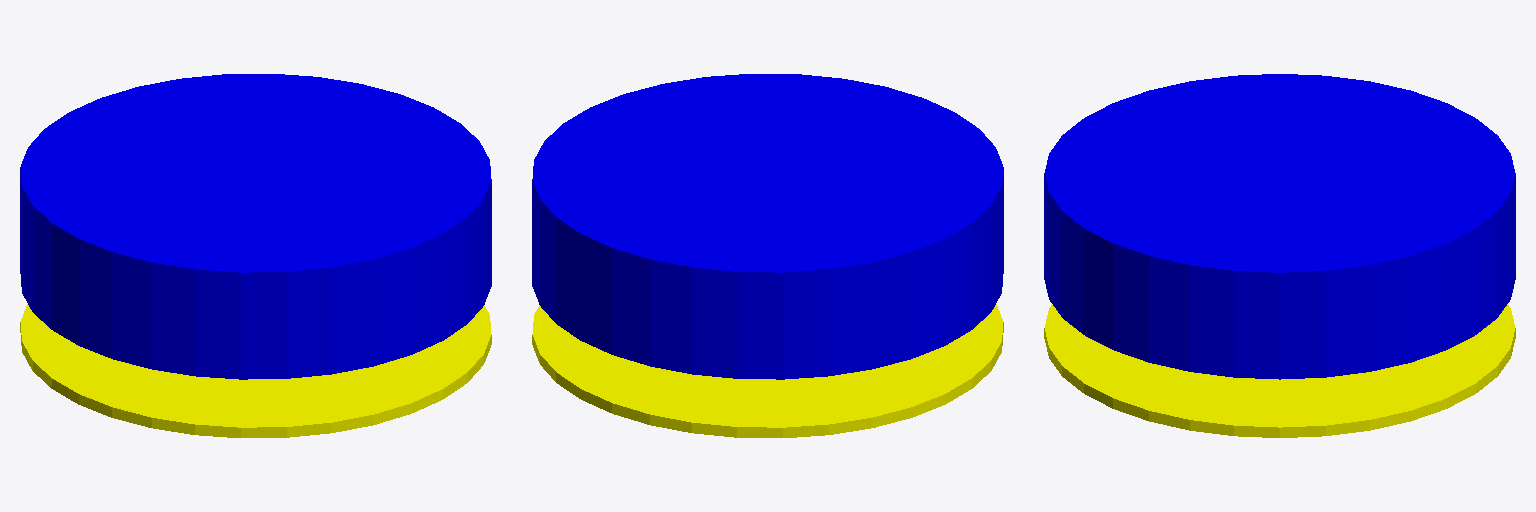
robot.urdf — ball_shooter:
<?xml version="1.0"?>

<robot name="ball_shooter">

//////////////////////////////////////////////////////////////////////////////////////////////
///////////////////////base link//////////////////////////////////////////////////////////////

<link name="base_link">

     <visual>
       <geometry>
   <cylinder length="0.01" radius="0.2"/> // TODO change heigth here
       </geometry>
       <origin rpy="0 0 0" xyz="0 0 0"/>
       <material name="yellow">
         <color rgba="1 1 0 1"/>
       </material>
     </visual>

     <collision>
       <geometry>
   <cylinder length="0.03" radius="0.2"/>
       </geometry>
       <origin rpy="0 0 0" xyz="0 0 0"/>
     </collision>
     <inertial>
   <mass value="1"/>
   <inertia ixx="1.0" ixy="0.0" ixz="0.0" iyy="1.0" iyz="0.0" izz="1.0"/>
     </inertial>
   </link>

/////////////////////////////////////////gazebo refernce base_link/////////////////////////////////

<gazebo reference="base_link">
    <material>Gazebo/Red</material>
</gazebo>


/////////////////////////////////////////////////////////////////////////////////////////////////

/////////////////joint base pan_joint(pan_link)/////////////////////////////////////////////////
<joint name="pan_joint" type="revolute">
    <parent link="base_link"/>
    <child link="pan_link"/>
    <origin xyz="0 0 0.1"/>
    <axis xyz="0 0 1" />
    <limit effort="300" velocity="0.1" lower="-3.14" upper="3.14"/>
    <dynamics damping="50" friction="1"/>
  </joint>

/////////////////////////////////////////////pan_joint////////////////////////////////////////////
<link name="pan_link">
    <visual>
      <geometry>
    <cylinder length="0.1" radius="0.2"/> // TODO change heigth here
      </geometry>
      <origin rpy="0 0 0" xyz="0 0 0."/>
      <material name="blue">
        <color rgba="0 0 1 1"/>
      </material>
    </visual>
    <collision>
      <geometry>
	<cylinder length="0.1" radius="0.22"/>
      </geometry>
      <origin rpy="0 0 0" xyz="0 0 0.09"/>
    </collision>
    <inertial>
	<mass value="1"/>
	<inertia ixx="1.0" ixy="0.0" ixz="0.0" iyy="1.0" iyz="0.0" izz="1.0"/>
    </inertial>
  </link>
  /////////////////////////////////////////gazebo refernce pan_joint/////////////////////////////////

  <gazebo reference="base_link">
      <material>Gazebo/Red</material>
  </gazebo>


</robot>

--- Render facts (derived) ---
The picture shows the robot from 3 angles, left to right: view 1: azimuth 30°, elevation 25°; view 2: azimuth 150°, elevation 25°; view 3: azimuth 270°, elevation 25°; orthographic projection.
Robot: ball_shooter — 2 links, 1 joints (1 revolute); root link base_link; default pose: all joints at 0.
Links seen in each view (by area): view 1: pan_link, base_link; view 2: pan_link, base_link; view 3: pan_link, base_link.
Link boxes in pixels (bbox=[...]): pan_link: bbox=[20, 74, 491, 379]; base_link: bbox=[20, 304, 491, 437]; pan_link: bbox=[532, 74, 1003, 379]; base_link: bbox=[532, 304, 1003, 437]; pan_link: bbox=[1044, 74, 1515, 379]; base_link: bbox=[1044, 304, 1515, 437].
Bounding box of the posed robot: 0.4 × 0.4 × 0.155 m (x, y, z).
Geometry: primitives only (box / cylinder / sphere), no mesh files.